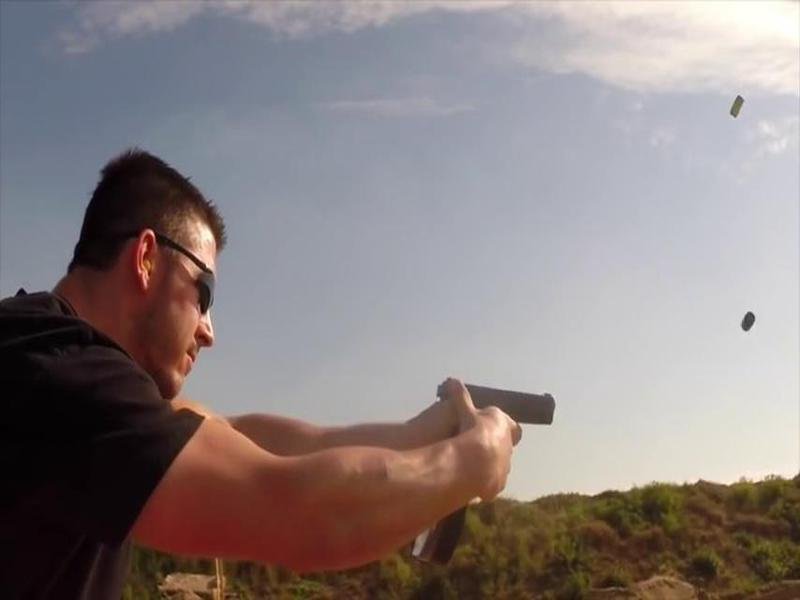Pistola: (435, 369, 567, 456)
